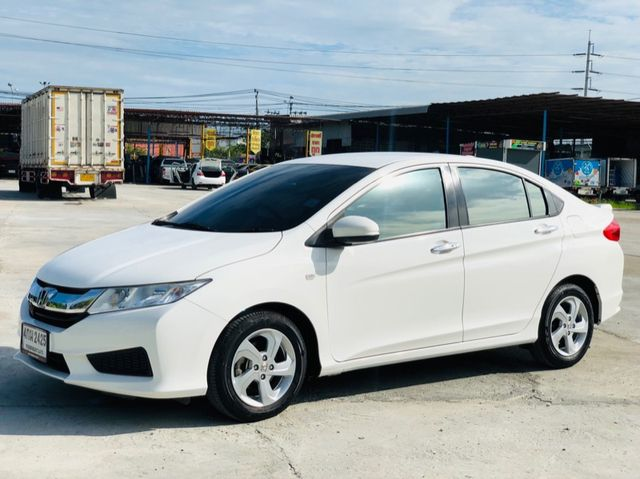sedan: (12, 144, 627, 421)
